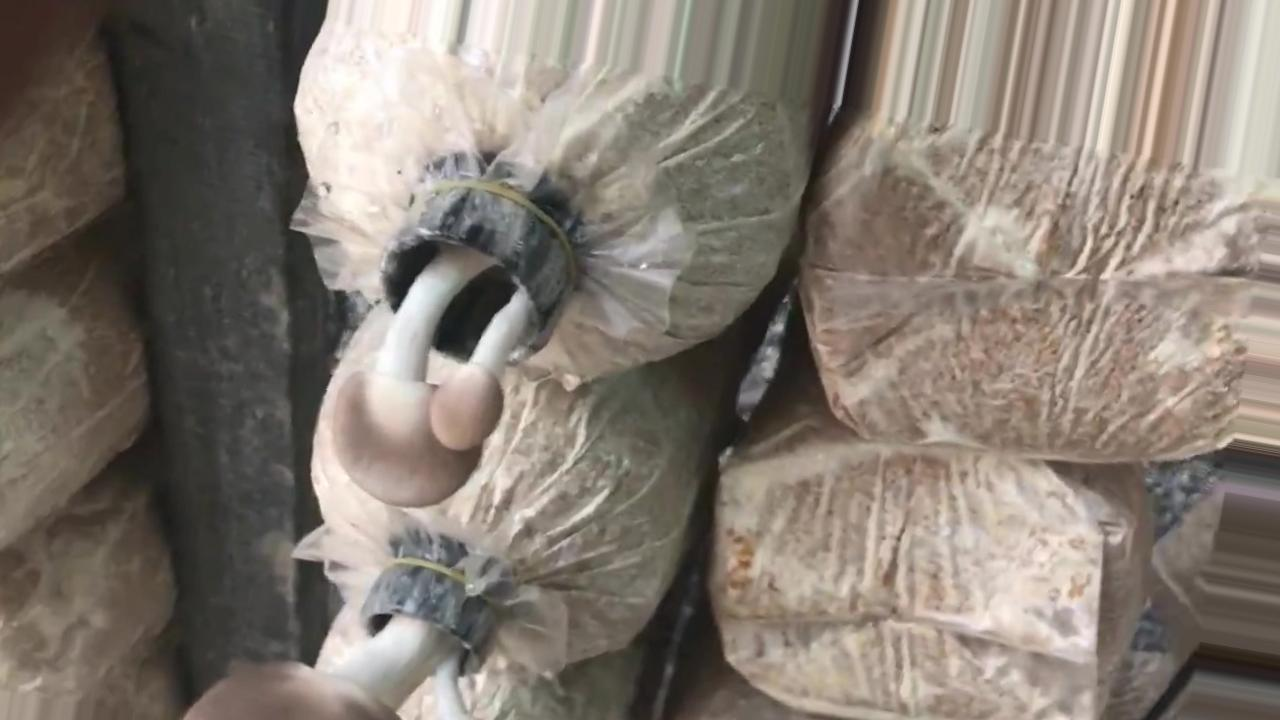nam: (332, 166, 576, 506), (190, 551, 510, 719)
